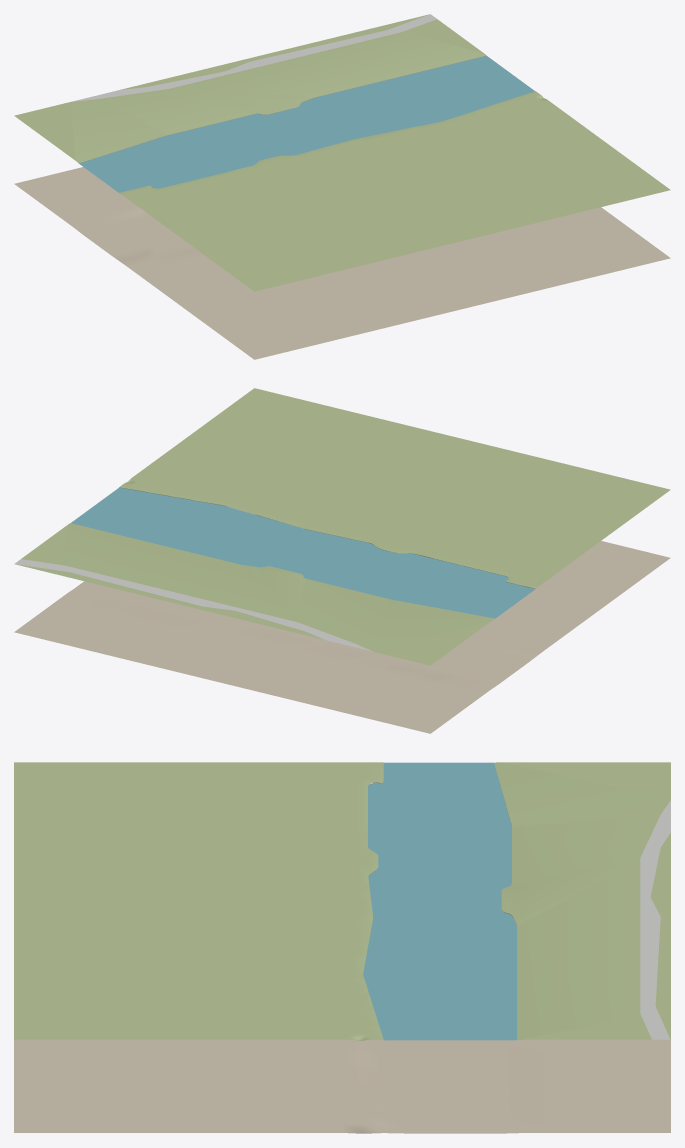
The picture shows the model from 3 angles, top to bottom: view 1: azimuth 30°, elevation 25°; view 2: azimuth 150°, elevation 25°; view 3: azimuth 270°, elevation 25°; orthographic projection. The views are drawn at different scales.
Visible parts, largest first — view 1: s_-5_6__grass, s_-5_6__soil, s_-5_6__water, s_-5_6__stone_paving; view 2: s_-5_6__grass, s_-5_6__soil, s_-5_6__water, s_-5_6__stone_paving; view 3: s_-5_6__grass, s_-5_6__soil, s_-5_6__water, s_-5_6__stone_paving.
Boxes of the visible parts, x1=… form: s_-5_6__grass: x1=14, y1=14, x2=670, y2=291; s_-5_6__soil: x1=14, y1=167, x2=670, y2=359; s_-5_6__water: x1=79, y1=56, x2=534, y2=192; s_-5_6__stone_paving: x1=72, y1=14, x2=436, y2=101; s_-5_6__grass: x1=14, y1=388, x2=670, y2=665; s_-5_6__soil: x1=14, y1=506, x2=670, y2=733; s_-5_6__water: x1=71, y1=488, x2=535, y2=618; s_-5_6__stone_paving: x1=14, y1=559, x2=372, y2=651; s_-5_6__grass: x1=14, y1=762, x2=670, y2=1040; s_-5_6__soil: x1=14, y1=1039, x2=670, y2=1133; s_-5_6__water: x1=363, y1=762, x2=516, y2=1040; s_-5_6__stone_paving: x1=640, y1=800, x2=670, y2=1039.
Bounding box in the file's own units: 128 × 20.21 × 128.
